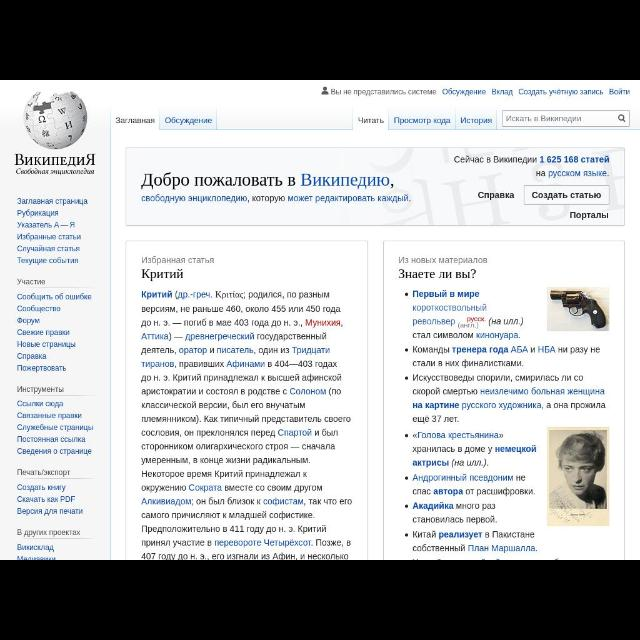icon: (321, 86, 329, 95), (618, 115, 626, 123), (405, 292, 409, 296), (405, 348, 409, 352), (405, 376, 409, 380), (404, 434, 408, 438), (404, 504, 408, 508), (405, 533, 409, 537), (406, 476, 408, 480)
image: (548, 427, 610, 527), (22, 90, 88, 150), (546, 286, 610, 332)
input: (502, 110, 630, 126)
multitab: (354, 110, 496, 130), (110, 110, 218, 130)
panel: (383, 241, 625, 559), (126, 241, 368, 559), (126, 148, 624, 226)
text: (142, 291, 352, 559), (413, 374, 607, 412), (412, 290, 524, 340), (142, 172, 394, 190), (412, 474, 536, 498), (412, 531, 538, 553), (142, 194, 410, 203), (413, 503, 497, 525), (414, 346, 600, 354), (454, 156, 610, 164), (412, 446, 538, 454), (14, 154, 96, 166), (399, 256, 487, 266), (414, 360, 524, 368), (332, 88, 436, 96), (398, 269, 476, 279), (142, 256, 214, 266), (518, 89, 604, 97), (413, 459, 489, 468), (17, 448, 92, 457), (17, 424, 94, 432), (506, 115, 582, 123), (18, 294, 92, 302), (141, 268, 183, 282), (536, 170, 608, 178), (18, 198, 88, 206), (17, 436, 87, 444), (532, 192, 602, 200), (18, 244, 80, 253), (15, 168, 94, 175), (412, 432, 503, 438), (16, 508, 84, 516), (18, 468, 70, 478), (17, 233, 81, 241), (18, 412, 82, 420), (17, 530, 81, 538), (17, 257, 79, 265), (16, 341, 76, 349), (394, 118, 452, 126), (17, 483, 67, 492), (164, 116, 212, 125), (18, 304, 60, 314), (18, 329, 70, 337), (412, 416, 460, 424), (17, 386, 64, 394), (17, 400, 63, 408), (442, 88, 486, 96), (17, 222, 75, 228), (18, 496, 76, 502), (18, 210, 58, 218), (477, 192, 515, 200), (570, 212, 608, 220), (17, 366, 67, 372), (18, 544, 54, 552), (461, 117, 492, 125), (116, 118, 156, 124), (16, 278, 46, 286), (18, 353, 46, 361), (16, 317, 40, 325), (492, 88, 514, 96), (358, 118, 384, 124), (17, 556, 55, 560), (610, 89, 630, 95)
textbutton: (524, 185, 610, 205)
